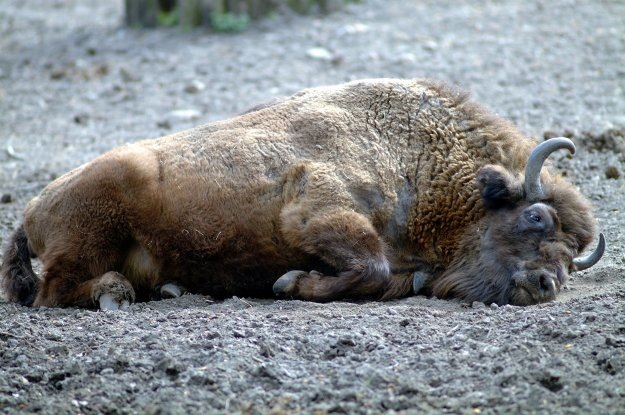zubr: (27, 62, 600, 302)
